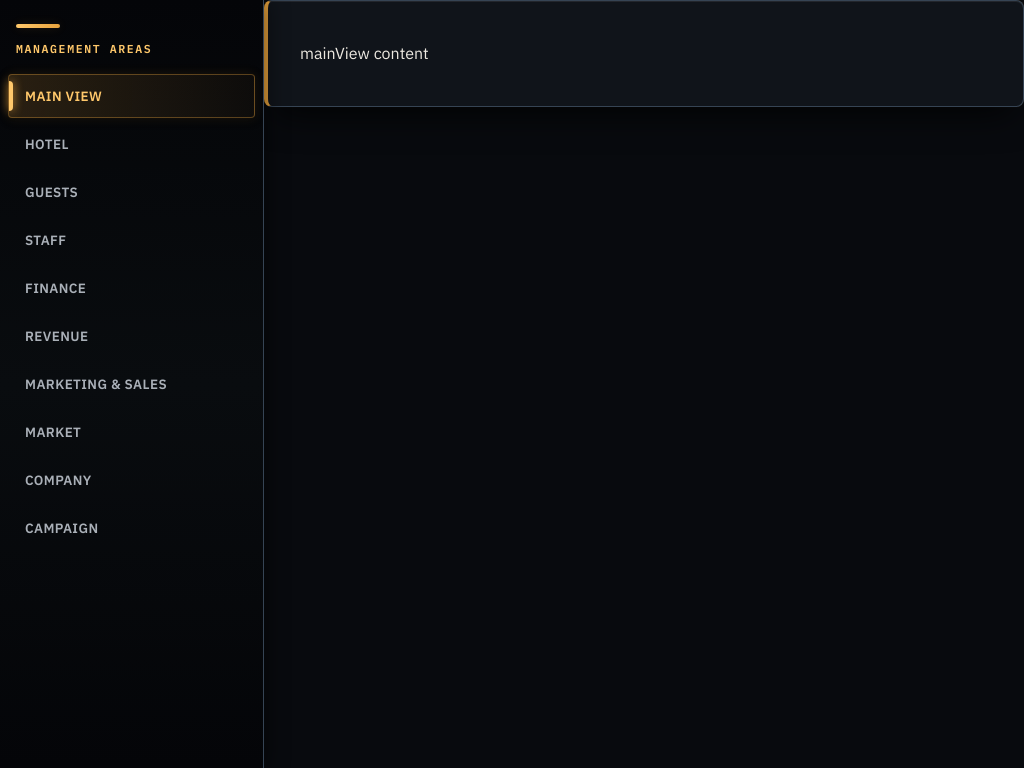
Test: ManagementShell › keeps management selection and displayed section synchronized
Click the tab "Finance" at (132,288), box [8,266,255,310]
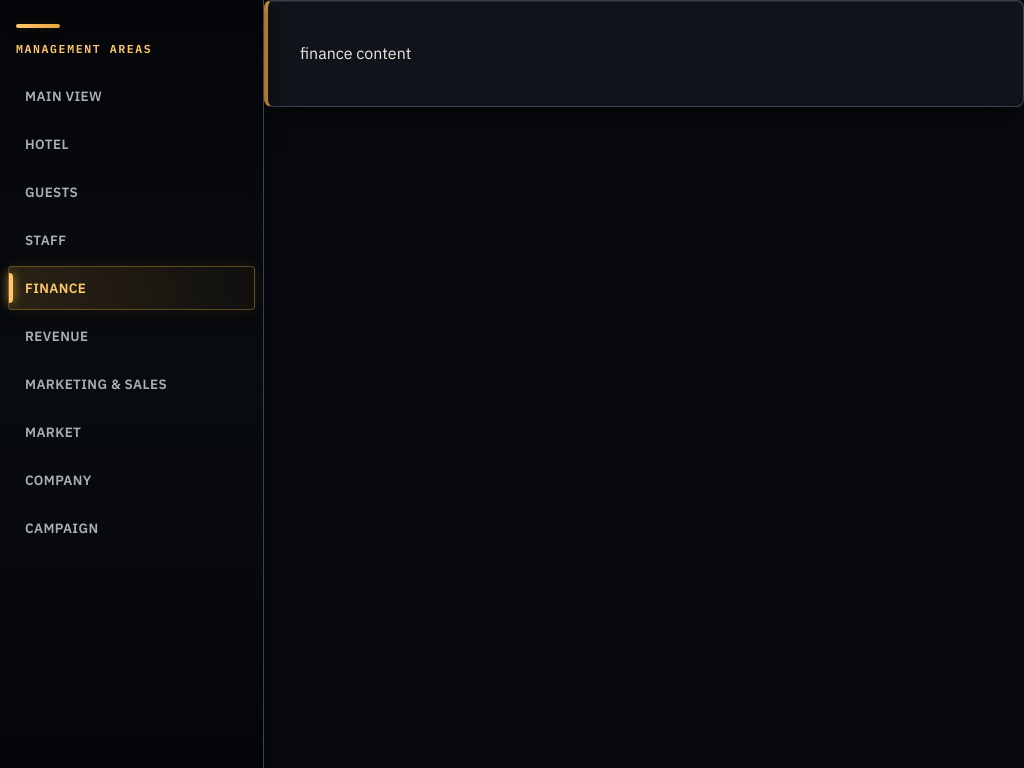
Expected: the panel "finance" is shown, [264,0,1023,107]
Expected: the text with test id "mainView-content" is gone
